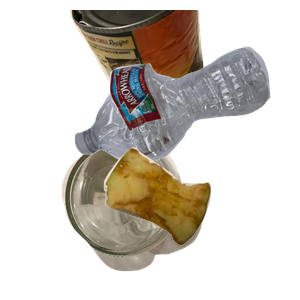glass: (59, 135, 254, 300)
metal: (68, 10, 265, 131)
plastic: (72, 44, 300, 200)
trash: (101, 145, 300, 300)
